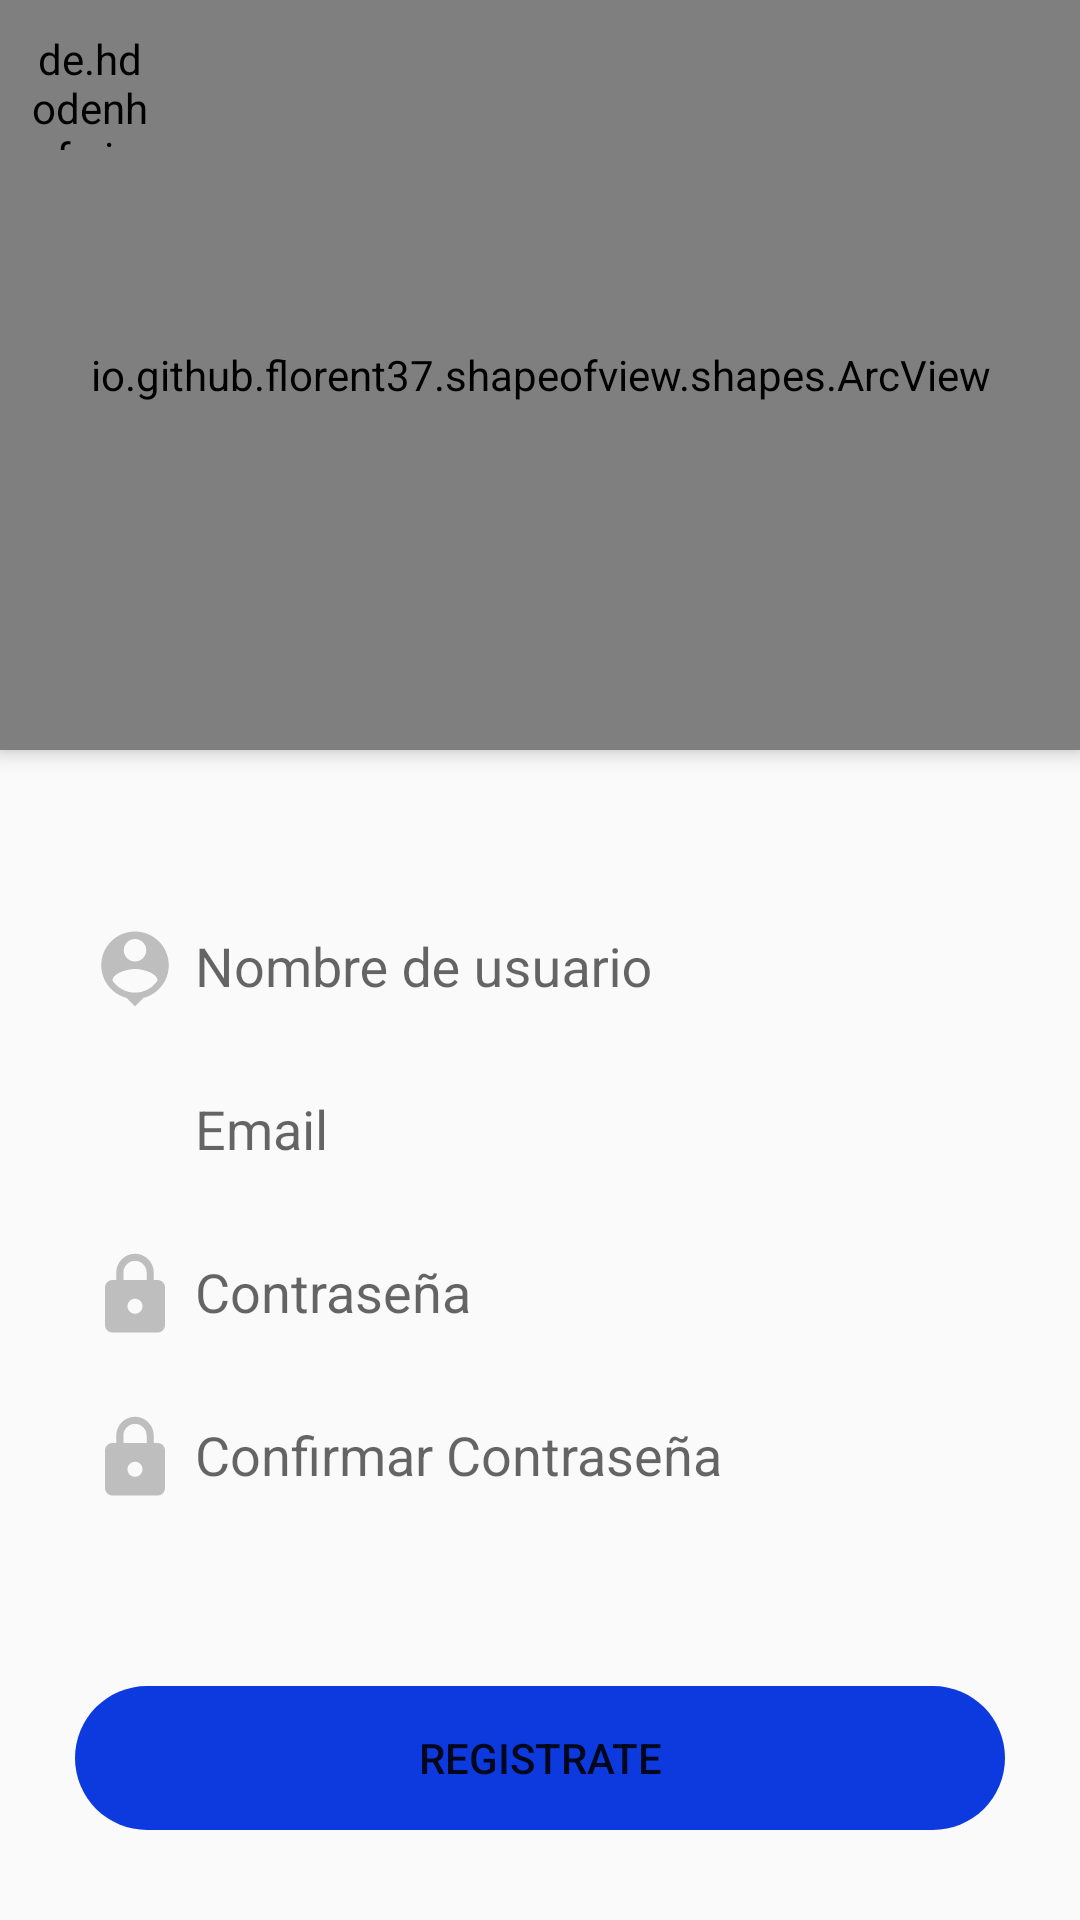

Where to tap for icons on this 1080×1920 app screen, as point (x, y):
password: point (135, 1293), point (135, 1456)
person pin: point (135, 968)
